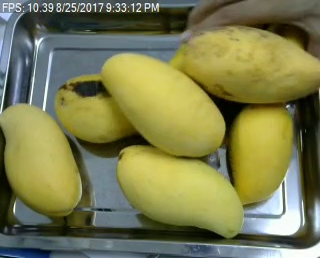Mango: (104, 53, 223, 154), (116, 146, 244, 237), (173, 25, 320, 102), (0, 105, 82, 216), (228, 101, 292, 204), (56, 73, 147, 142)
